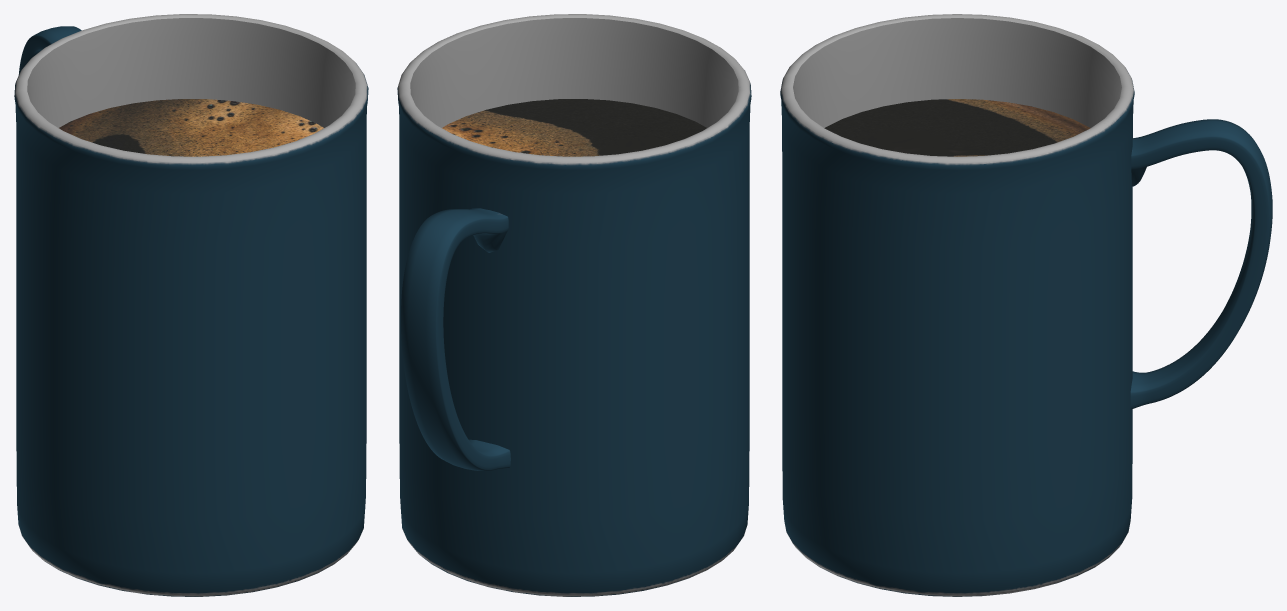
Rendered from Blue.gltf.
3 views of the same model, side by side, from view 1: azimuth 30°, elevation 25°; view 2: azimuth 150°, elevation 25°; view 3: azimuth 270°, elevation 25° (orthographic).
Parts seen in each view (by area): view 1: Cups; view 2: Cups; view 3: Cups.
Boxes of the visible parts, x1,y1,x2,y2 form: Cups: (14,14,368,596); Cups: (397,14,751,596); Cups: (780,14,1272,596).
Bounding box in the file's own units: 0.233 × 0.319 × 0.3237.
2 materials, 2 textured.
